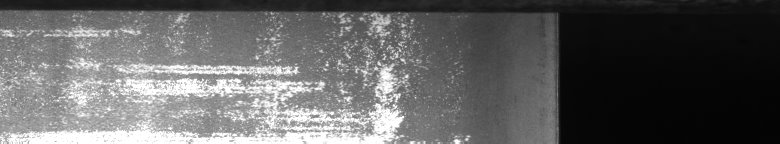kb: (4, 4, 467, 136)
